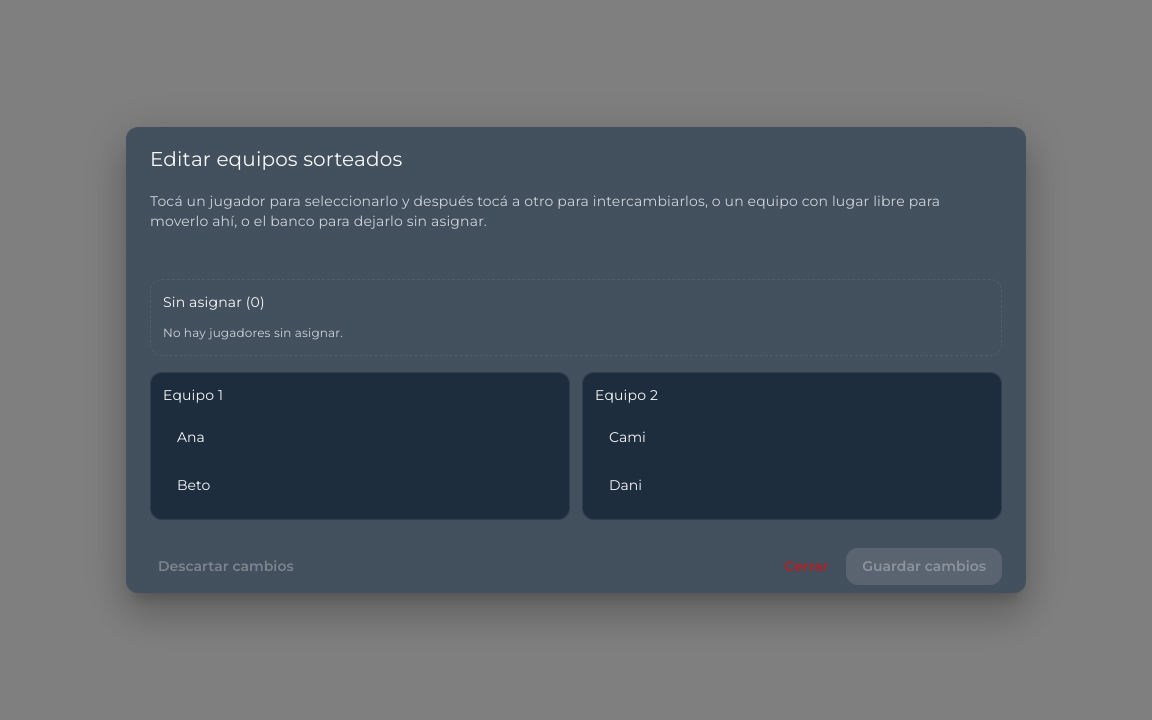
Test: TeamRosterEditor › tocar un equipo completo (fuera de un jugador) no hace nada y avisa
Click the button "Ana" at [191, 437], box 163,415 -> 557,459
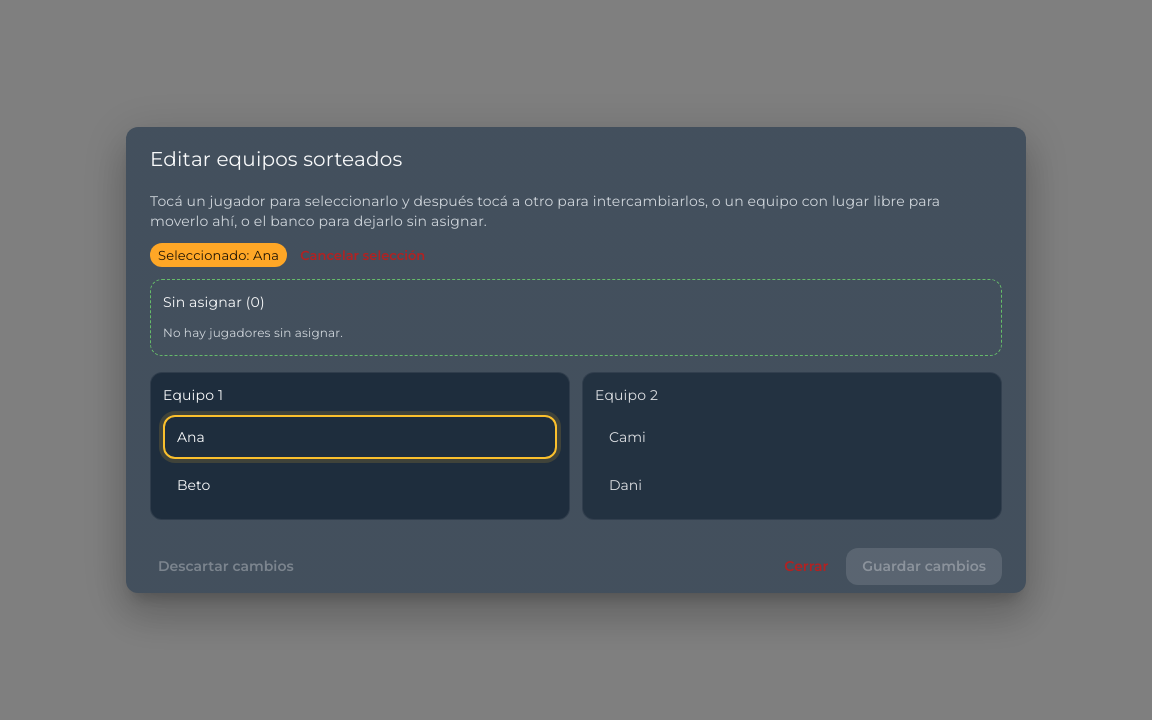
Click the element with test id "roster-team-1" at [792, 446], box 582,372 -> 1002,520
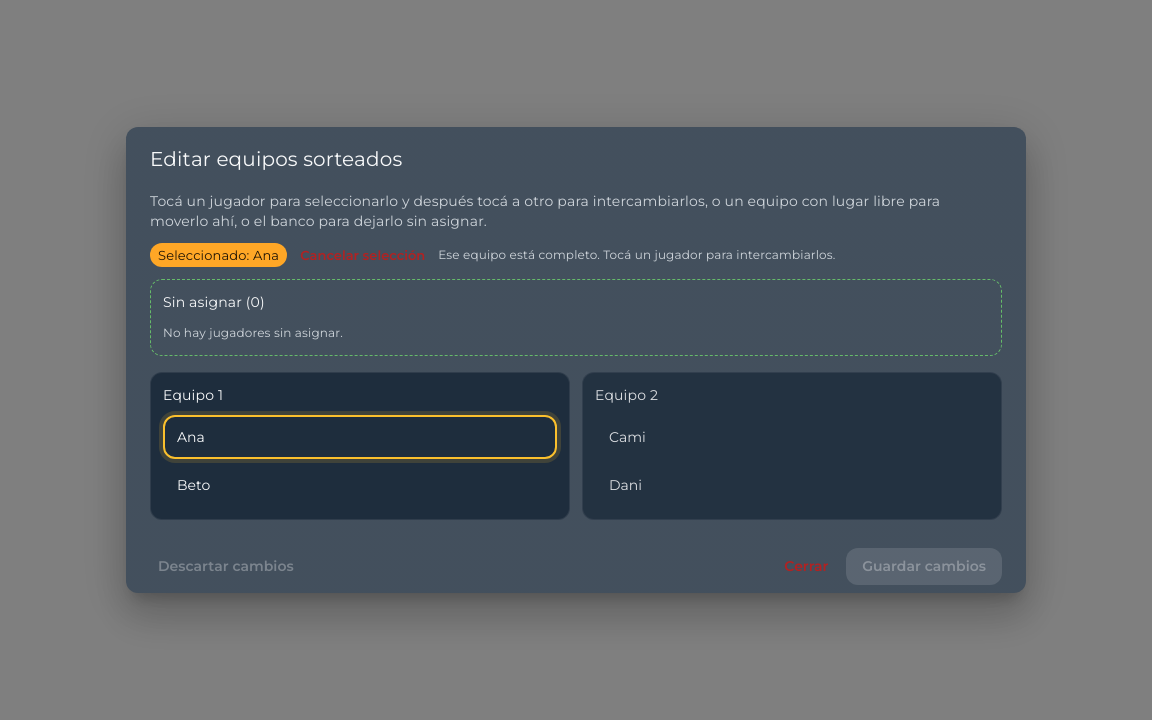
Expected: the text "Seleccionado: Ana" is shown, 150,246 -> 287,265
Expected: the text "Ese equipo está completo. Tocá un jugador para intercambiarlos." is shown, 438,245 -> 836,265
